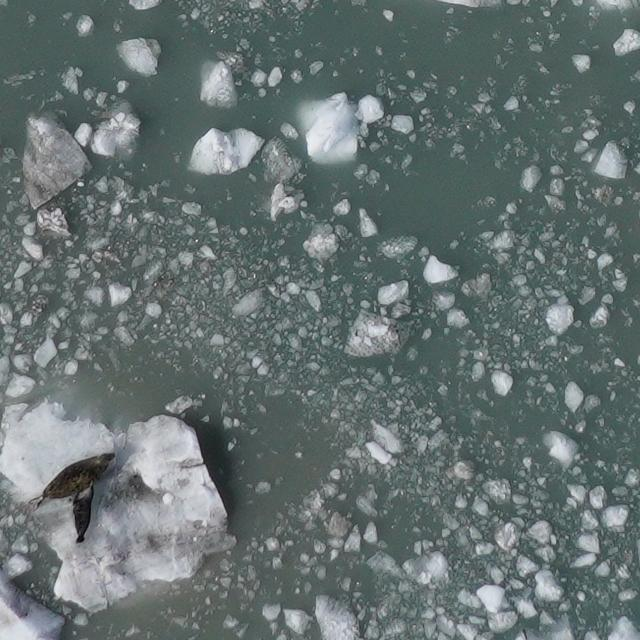seal: (20, 447, 125, 513), (68, 484, 95, 545)
